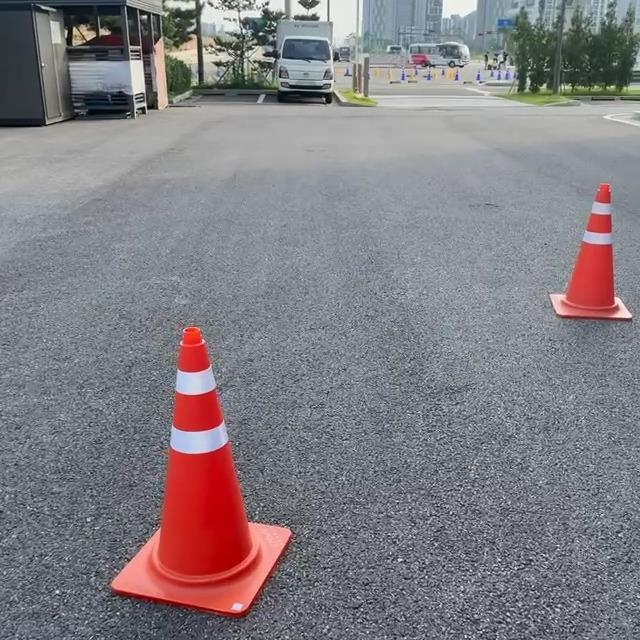fallen_object: (72, 253, 349, 640), (574, 170, 640, 348)
